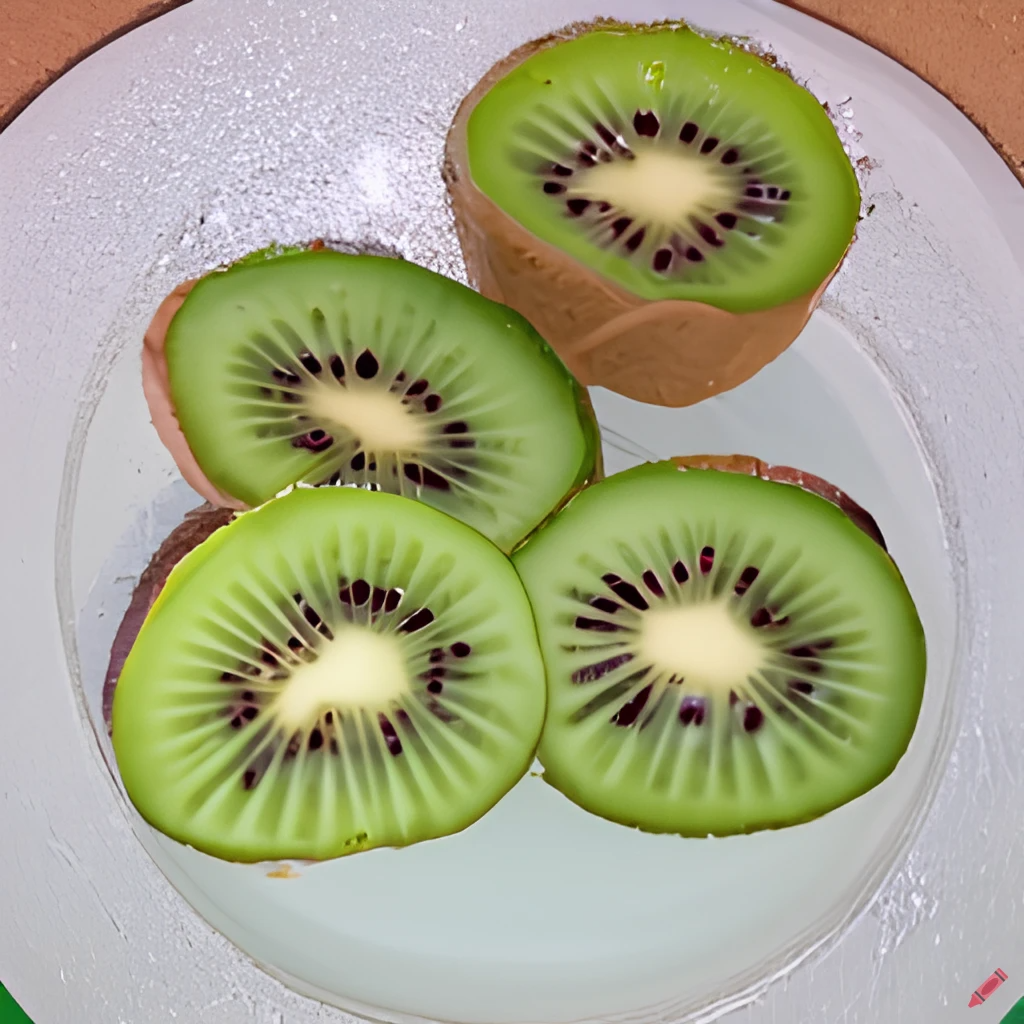Kiwi: (499, 443, 942, 850)
